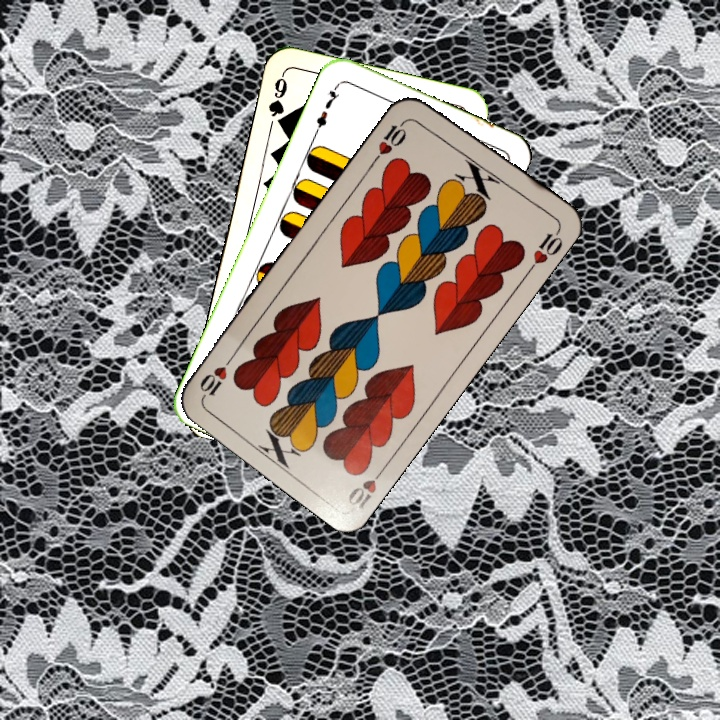E7: (310, 81, 343, 137)
G9: (264, 70, 290, 131)
H10: (344, 460, 390, 512), (369, 114, 412, 165)
